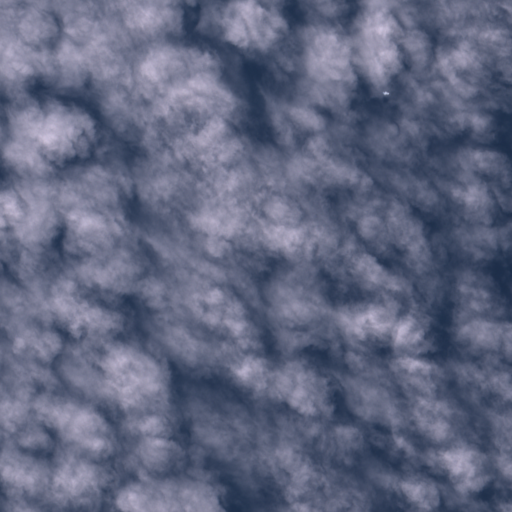Iceberg: (383, 91, 388, 94)
